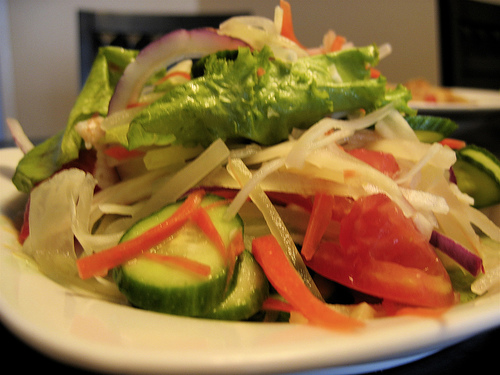cucumber: (109, 188, 248, 319), (449, 155, 499, 208)
